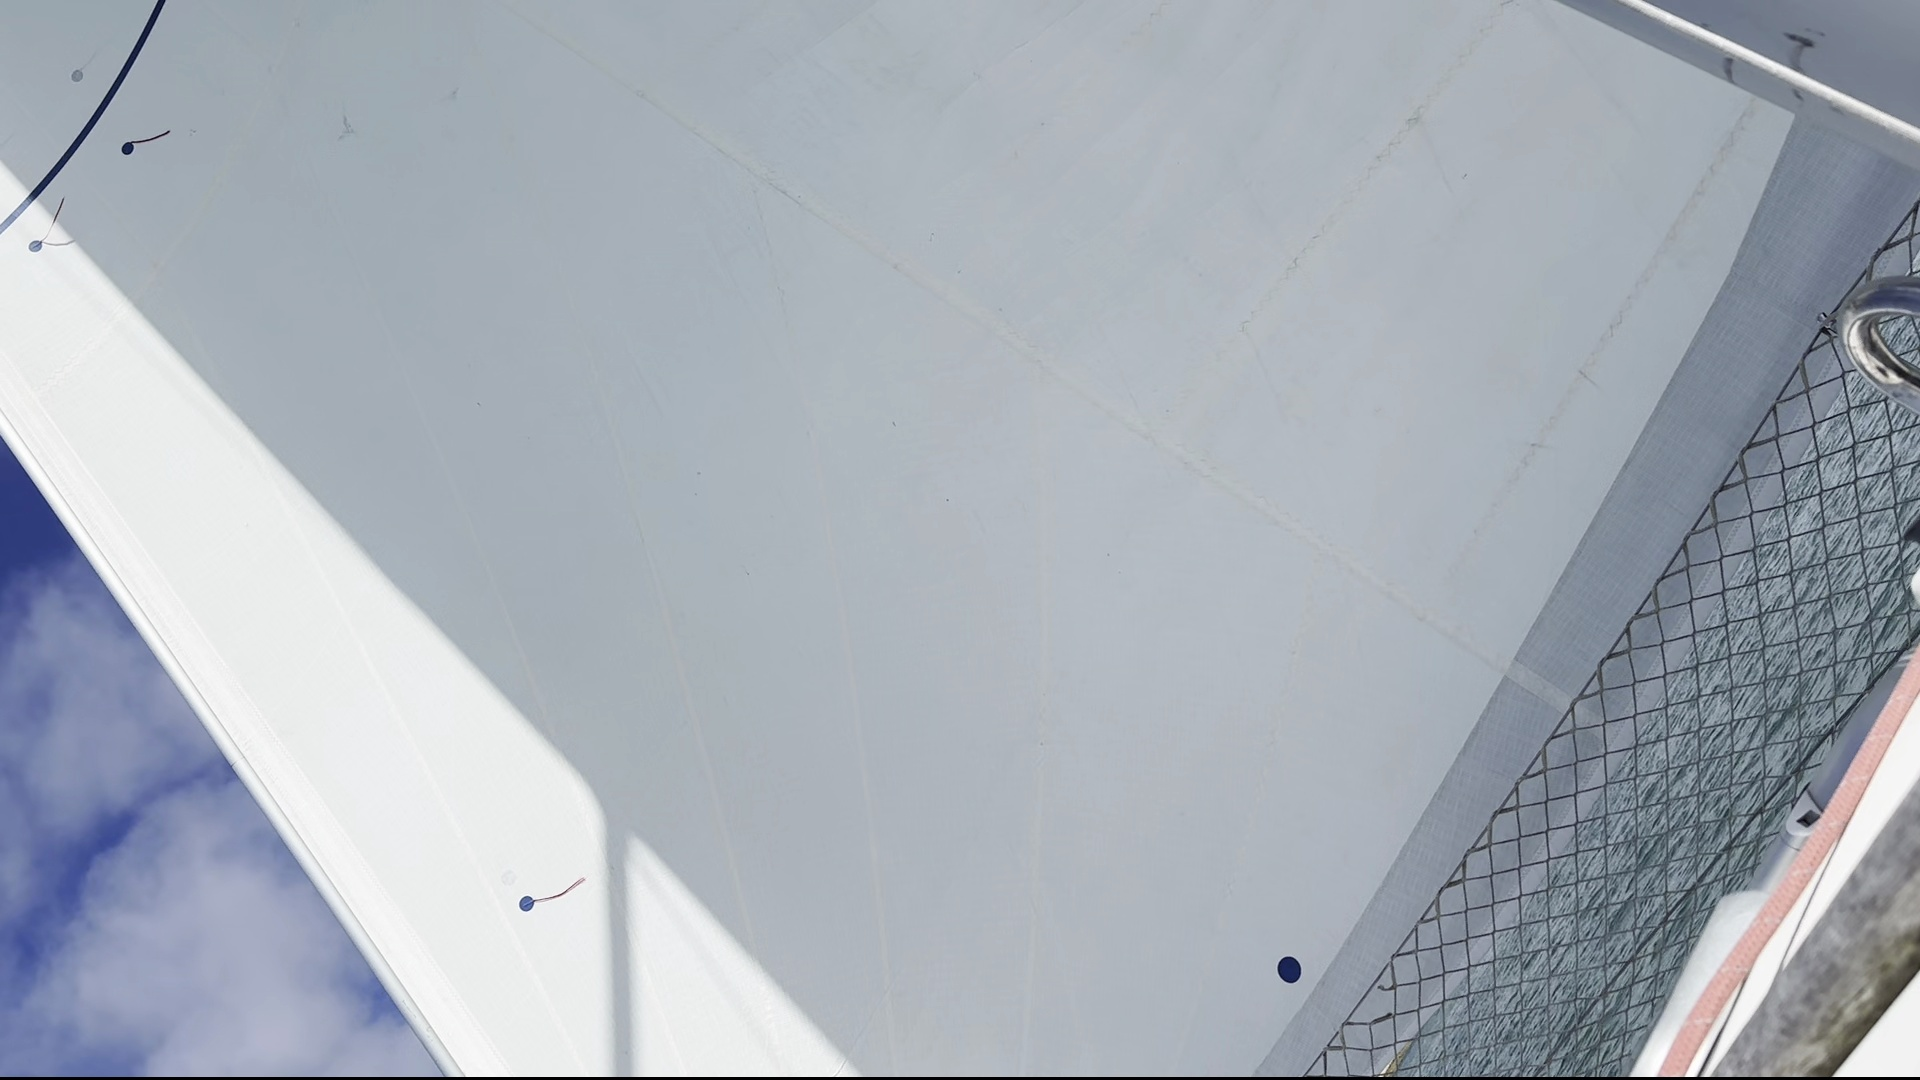pennon_attached: (512, 862, 595, 932), (112, 120, 177, 166), (66, 44, 103, 87)
pennon_detached: (28, 193, 69, 260)
